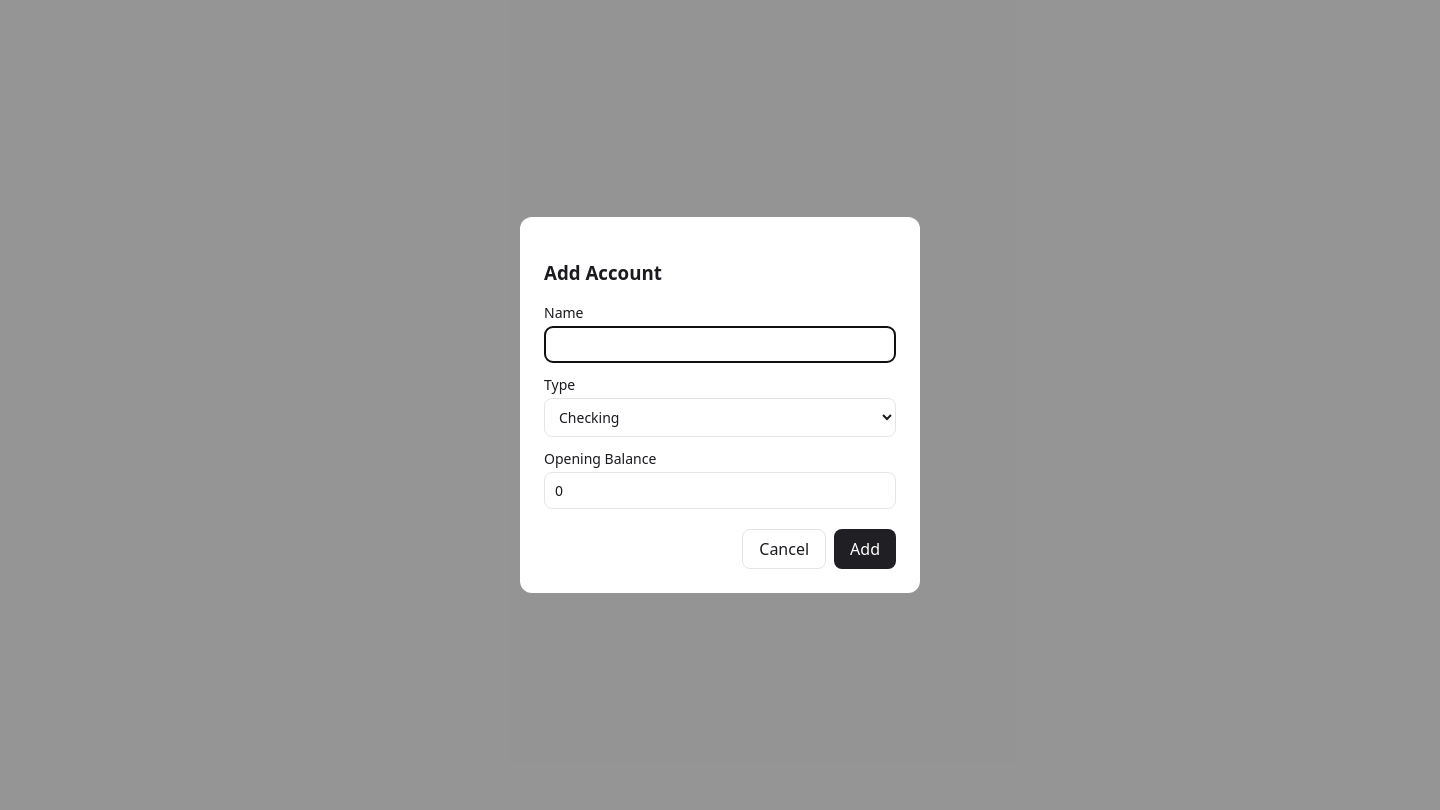
it: AccountFormModal › shows a validation error when the name is empty
The image size is (1440, 810).
Click the button "Add" at (865, 549), box [834,529,896,569]
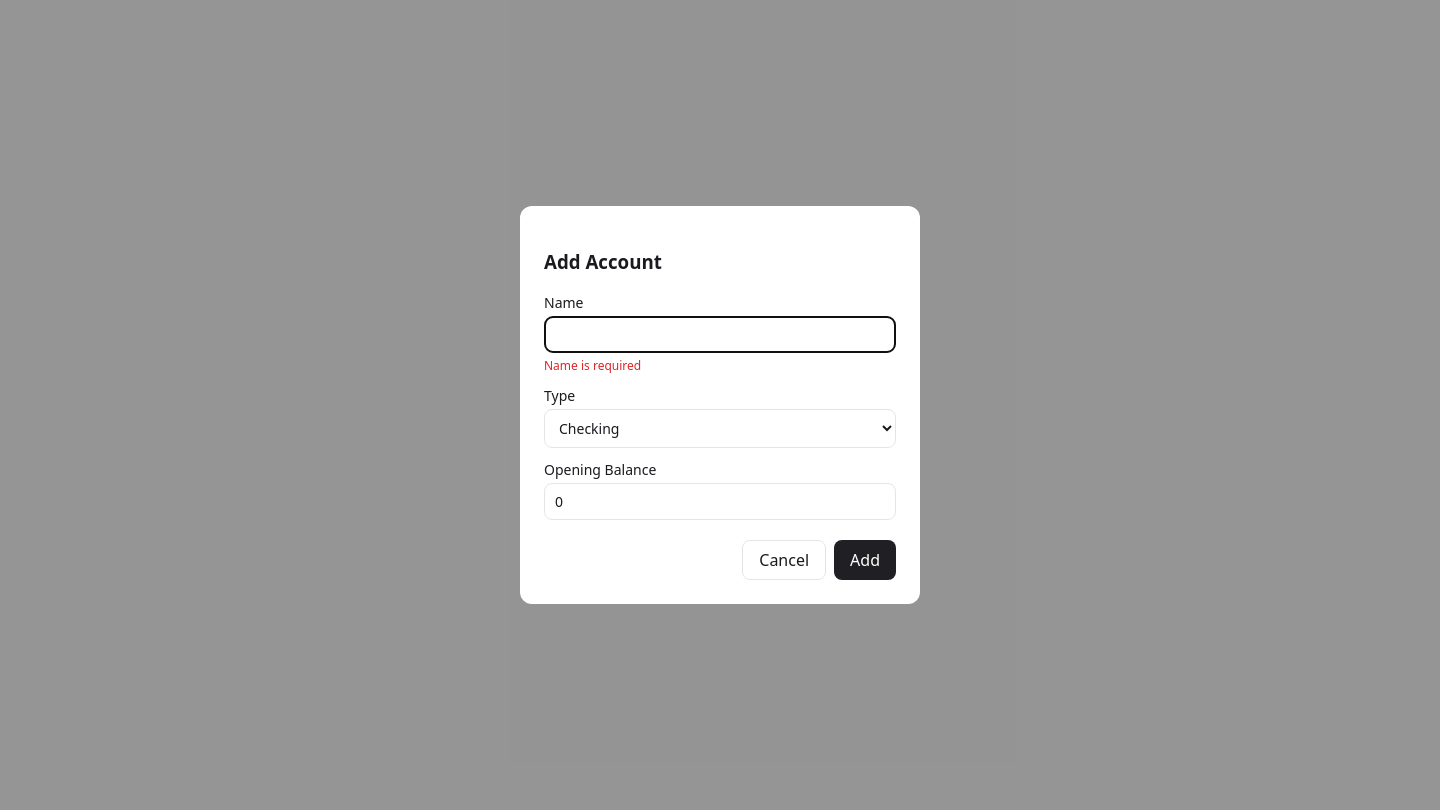
Expected: the text "Name is required" is shown, [544,357,641,374]
